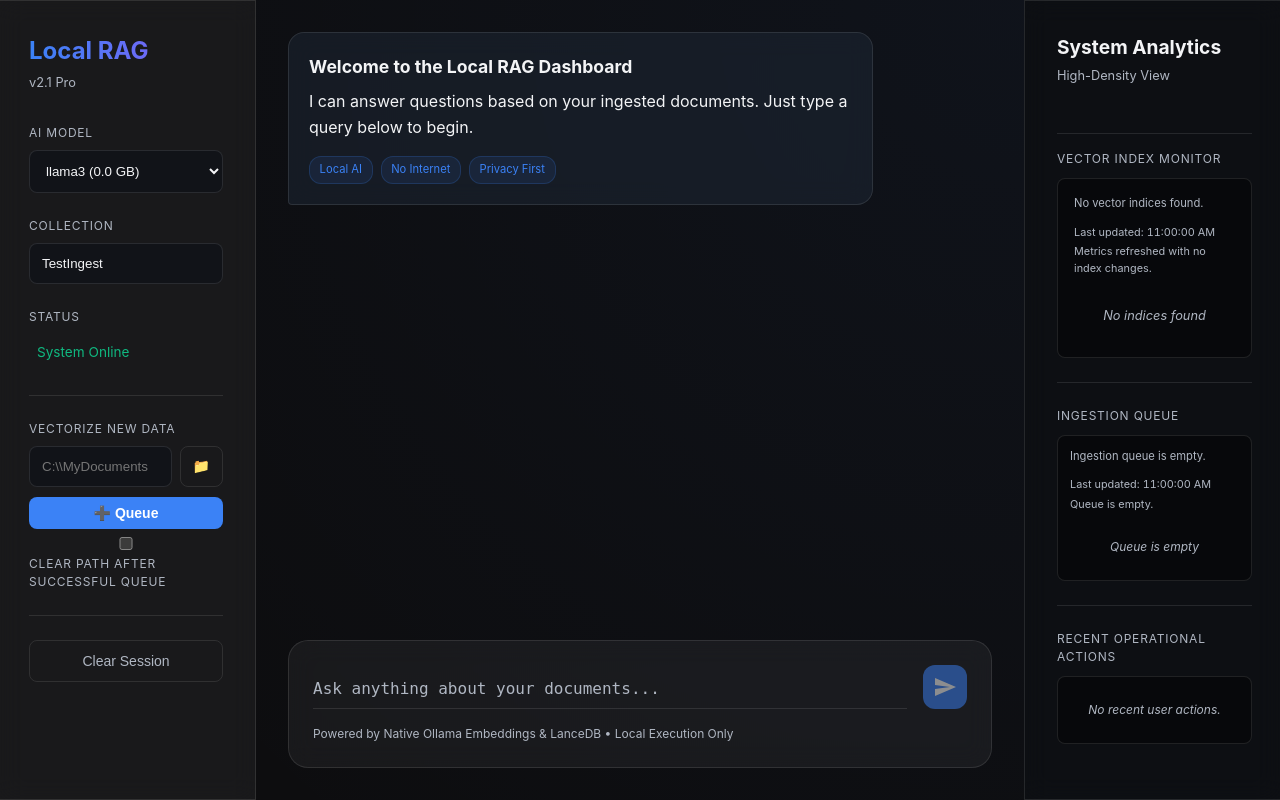
App › shows interrupted recovery UI when a response fails mid-stream
In the text box named "query message": x=610, y=689 [313,669,907,709], type "Continue please"
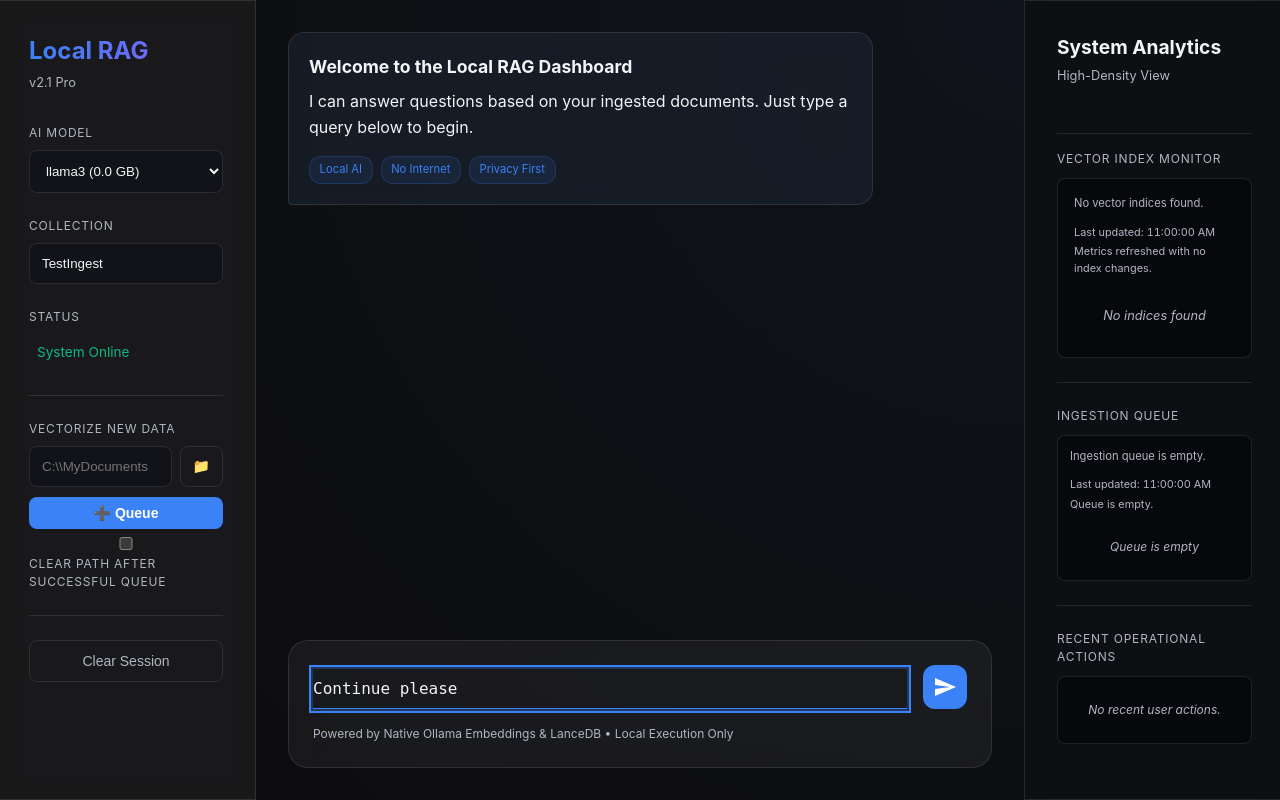
Click the button named "send message": x=945, y=687 [923,665,967,709]
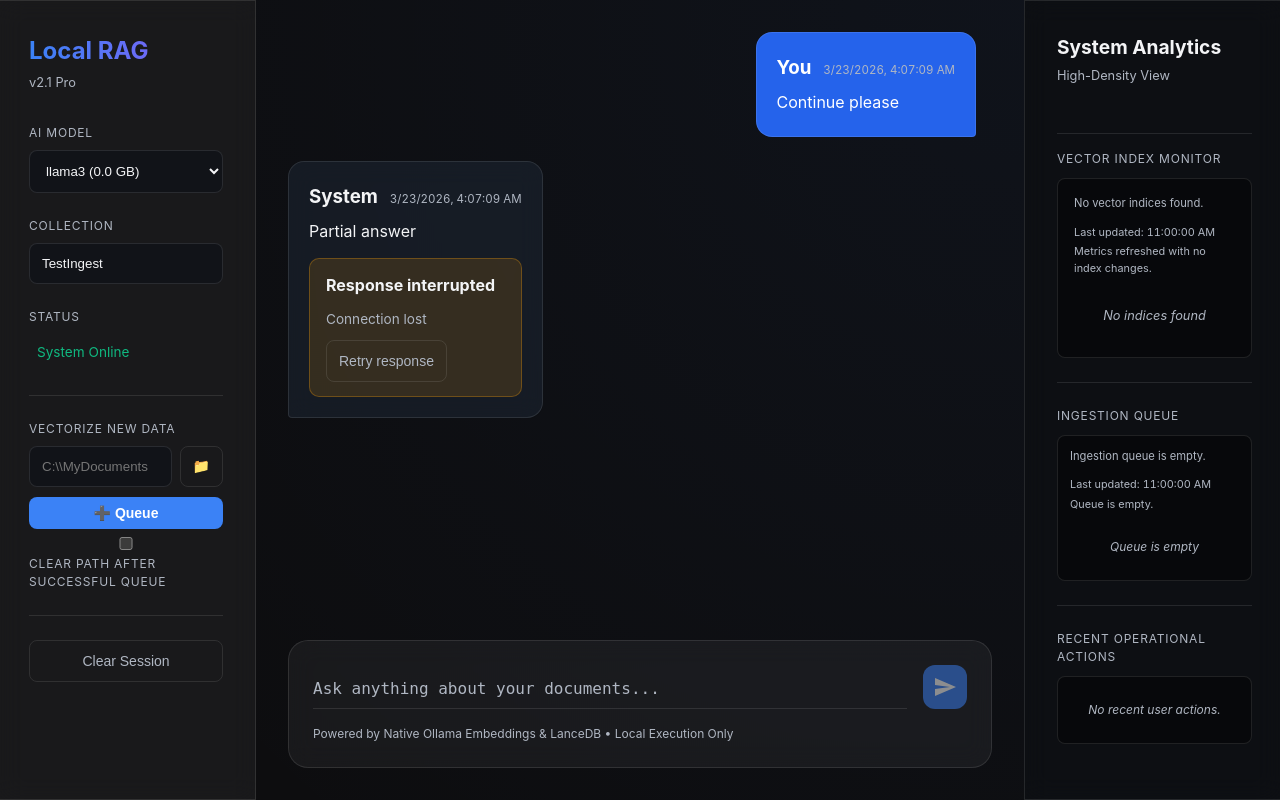
Result: the text "Response interrupted" is shown at [326,273,505,299]
Result: the text "Partial answer" is shown at [309,221,416,241]
Result: the text "Connection lost" is shown at [326,311,427,327]
